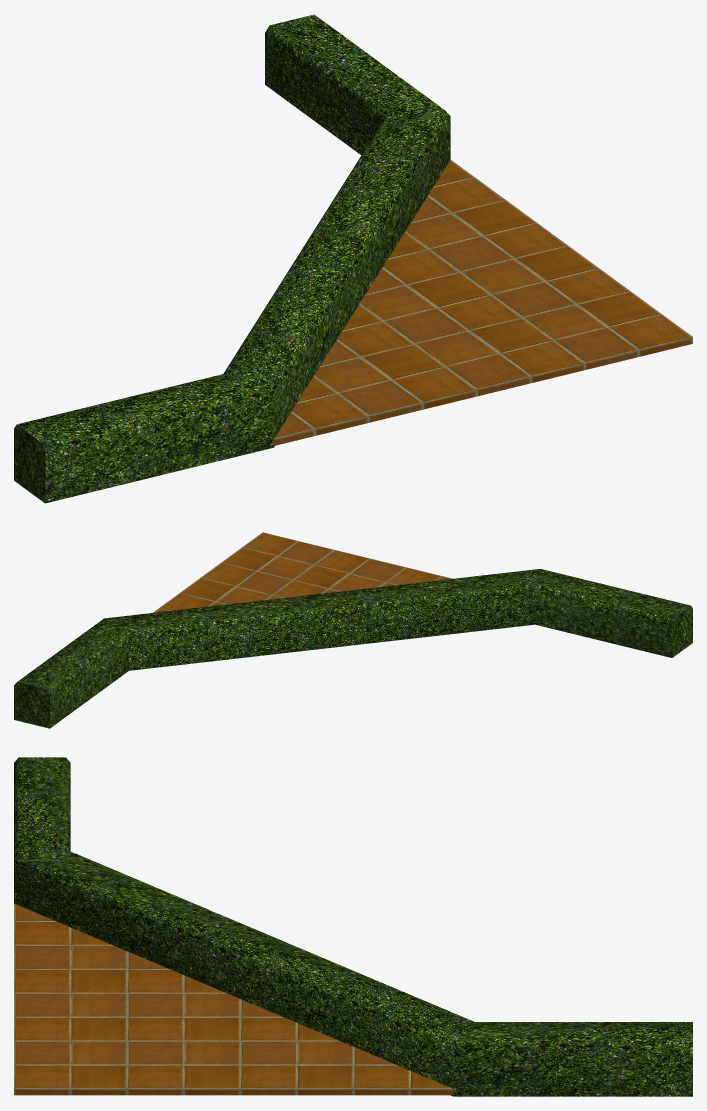
Rendered from StaggingExtras.FBX.
3 views of the same model, one above another, from view 1: azimuth 30°, elevation 25°; view 2: azimuth 150°, elevation 25°; view 3: azimuth 270°, elevation 25° (orthographic). The views are drawn at different scales.
Parts seen in each view (by area): view 1: BoxHedge, Walkway Corner; view 2: BoxHedge, Walkway Corner; view 3: BoxHedge, Walkway Corner.
Boxes of the visible parts, <box> form: BoxHedge: <box>14,14,450,503</box>; Walkway Corner: <box>274,160,692,445</box>; BoxHedge: <box>14,569,692,728</box>; Walkway Corner: <box>153,532,452,612</box>; BoxHedge: <box>14,757,692,1096</box>; Walkway Corner: <box>14,903,453,1095</box>.
Size of the model in its own units: 1199 by 103 by 1200.
Materials: 2 (2 with a texture image).
